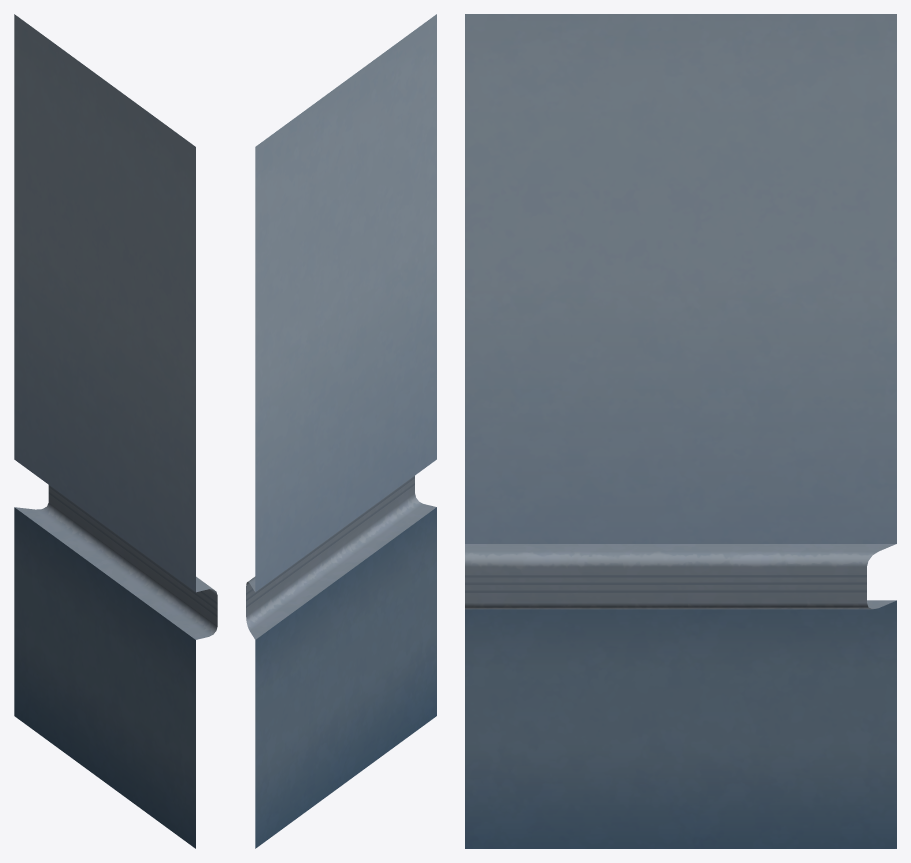
File: Lvl2_Wall_Corner_In_2.fbx
3 renders of one model, left to right at view 1: azimuth 30°, elevation 25°; view 2: azimuth 150°, elevation 25°; view 3: azimuth 270°, elevation 25°, orthographic. The views are drawn at different scales.
Parts seen in each view (by area): view 1: Lvl2_Wall_Corner_In_2; view 2: Lvl2_Wall_Corner_In_2; view 3: Lvl2_Wall_Corner_In_2.
Part boxes in pixels (bbox=[...]): Lvl2_Wall_Corner_In_2: bbox=[14, 14, 217, 848]; Lvl2_Wall_Corner_In_2: bbox=[246, 14, 436, 848]; Lvl2_Wall_Corner_In_2: bbox=[465, 14, 896, 848].
Bounding box in the file's own units: 13.01 × 400 × 188.
1 material, 1 textured.
